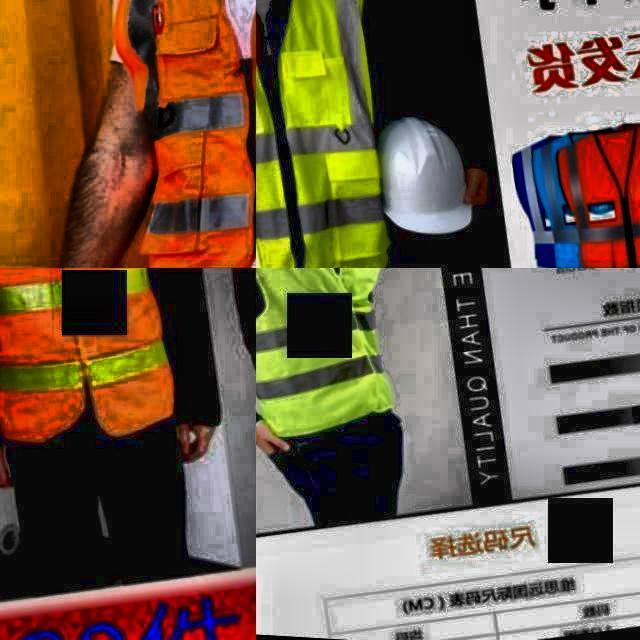safety_jacket: (256, 0, 421, 268), (92, 0, 256, 268), (0, 268, 205, 469), (256, 268, 415, 462), (557, 126, 640, 268)
